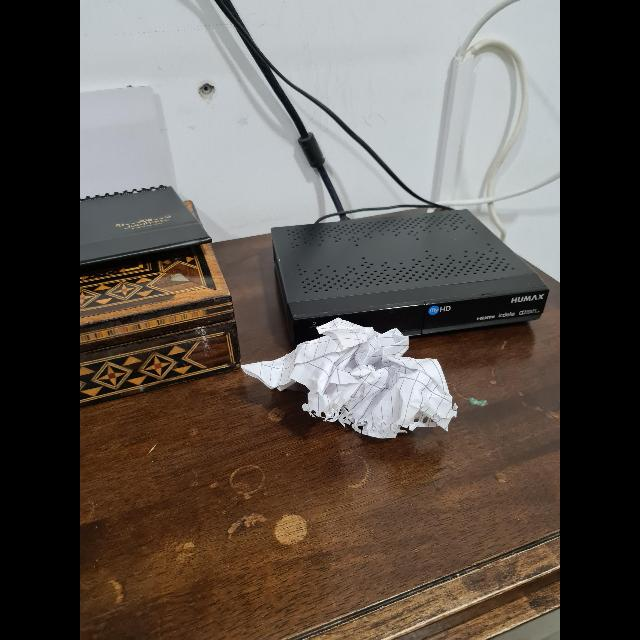scrap_paper: (246, 321, 459, 443)
